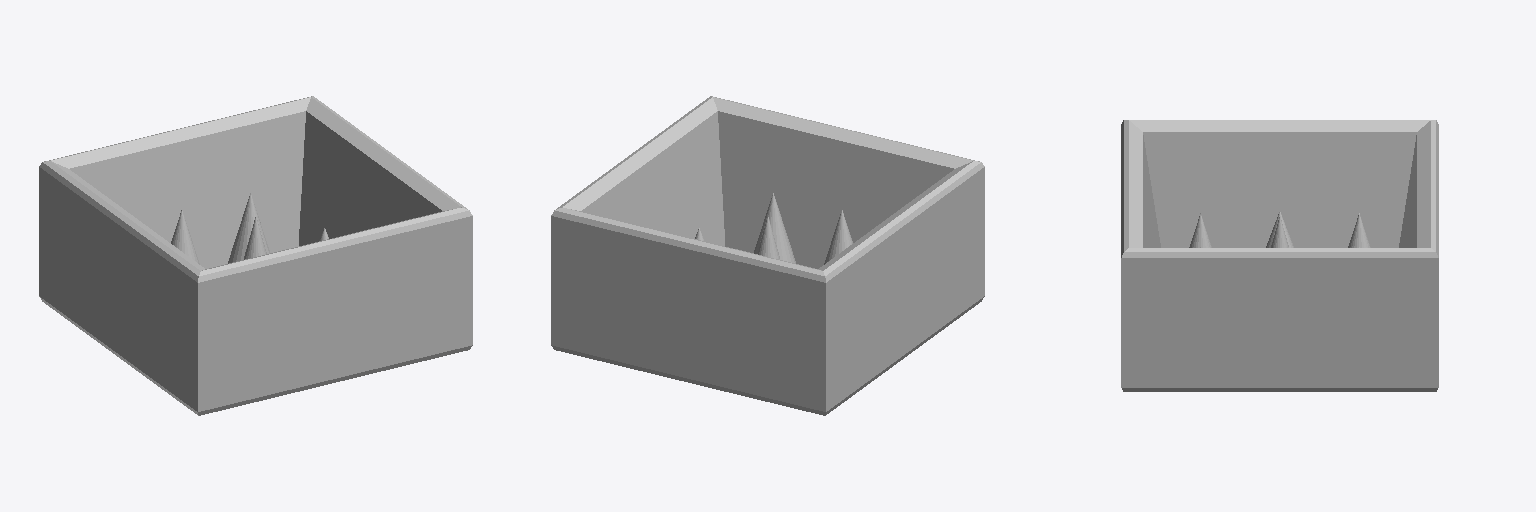
Rendered from tileSpikes_shallow.obj.
The picture shows the model from 3 angles: view 1: azimuth 30°, elevation 25°; view 2: azimuth 150°, elevation 25°; view 3: azimuth 270°, elevation 25°; orthographic projection.
Visible parts, largest first — view 1: tileSpikes_shallow_Cube.3225; view 2: tileSpikes_shallow_Cube.3225; view 3: tileSpikes_shallow_Cube.3225.
Part boxes in pixels (bbox=[...]): tileSpikes_shallow_Cube.3225: bbox=[39, 96, 472, 415]; tileSpikes_shallow_Cube.3225: bbox=[551, 96, 984, 415]; tileSpikes_shallow_Cube.3225: bbox=[1121, 120, 1438, 391].
Size of the model in its own units: 2 by 1 by 2.